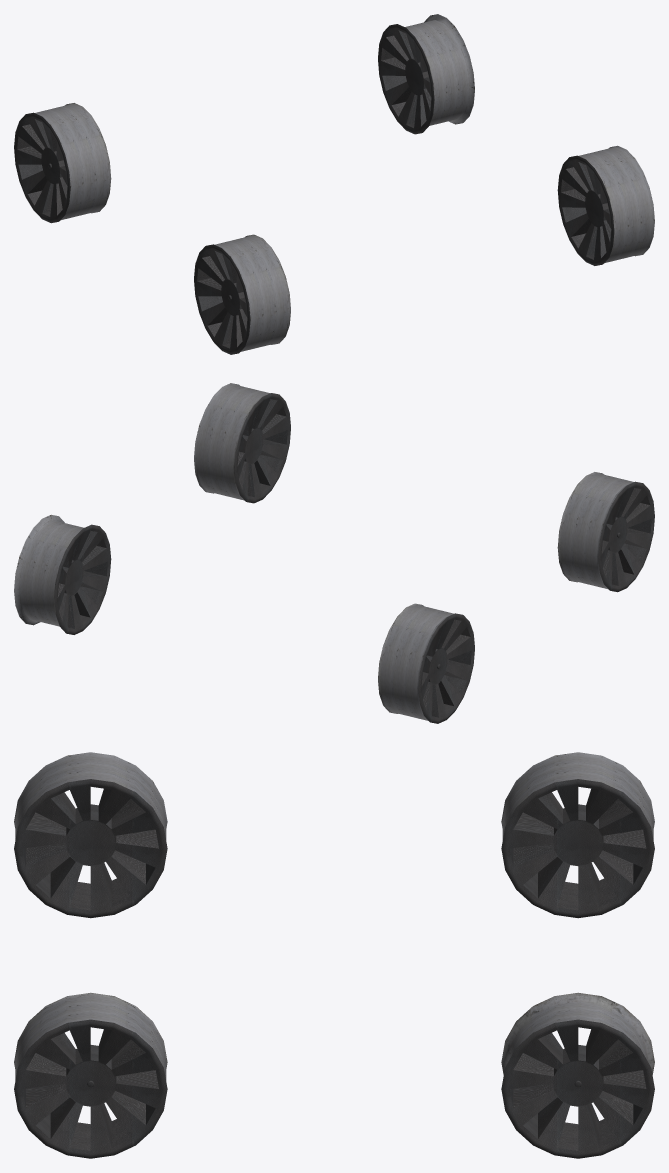
Rendered from MDL_Trolley Rodas.fbx.
The picture shows the model from 3 angles, top to bottom: view 1: azimuth 30°, elevation 25°; view 2: azimuth 150°, elevation 25°; view 3: azimuth 270°, elevation 25°; orthographic projection. The views are drawn at different scales.
Visible parts, largest first — view 1: Roda5, Roda8, Roda6, Roda7; view 2: Roda6, Roda5, Roda8, Roda7; view 3: Roda5, Roda8, Roda6, Roda7.
Part boxes in pixels (x1=…): Roda5: x1=557, y1=145, x2=654, y2=265; Roda8: x1=14, y1=103, x2=111, y2=223; Roda6: x1=194, y1=234, x2=290, y2=354; Roda7: x1=378, y1=14, x2=474, y2=134; Roda6: x1=557, y1=472, x2=654, y2=592; Roda5: x1=194, y1=383, x2=290, y2=503; Roda8: x1=378, y1=603, x2=474, y2=723; Roda7: x1=14, y1=514, x2=111, y2=634; Roda5: x1=14, y1=992, x2=167, y2=1158; Roda8: x1=501, y1=752, x2=654, y2=918; Roda6: x1=14, y1=752, x2=167, y2=918; Roda7: x1=501, y1=992, x2=654, y2=1158.
Bounding box in the file's own units: 11.18 × 2.7 × 11.28.
